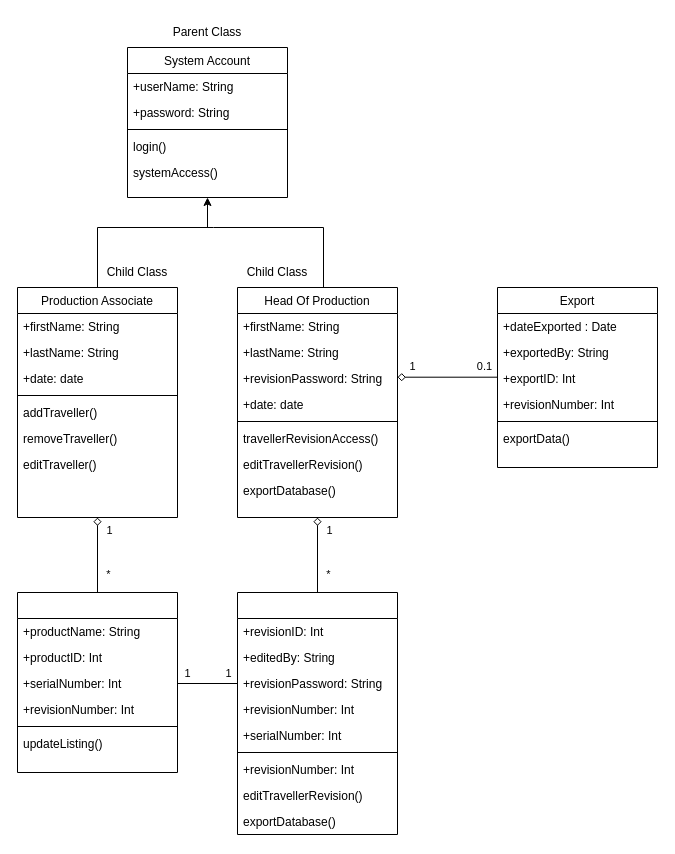
The diagram is 675 pixels wide and 854 high, and some of its shapes have lost their labels. Each missing label, with the box of its shape:
Traveller Sheet: (16, 592, 178, 772)
Traveller Sheet Revision: (236, 592, 398, 834)
